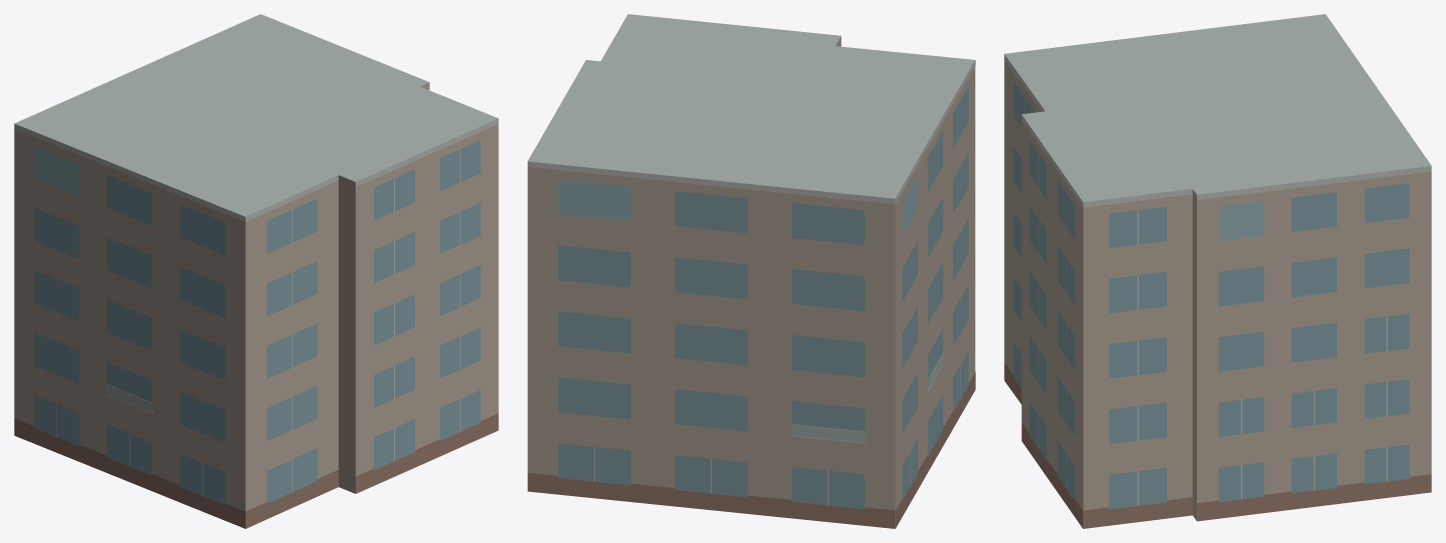
The model's file is survey-upis-32541586.glb.
3 renders of one model, left to right at view 1: azimuth 30°, elevation 25°; view 2: azimuth 150°, elevation 25°; view 3: azimuth 270°, elevation 25°, orthographic. The views are drawn at different scales.
Parts seen in each view (by area): view 1: survey-upis-32541586.tmp; view 2: survey-upis-32541586.tmp; view 3: survey-upis-32541586.tmp.
Part boxes in pixels (bbox=[...]): survey-upis-32541586.tmp: bbox=[14, 14, 498, 528]; survey-upis-32541586.tmp: bbox=[527, 14, 975, 528]; survey-upis-32541586.tmp: bbox=[1004, 14, 1431, 528].
Size of the model in its own units: 17.94 by 14.5 by 17.21.
